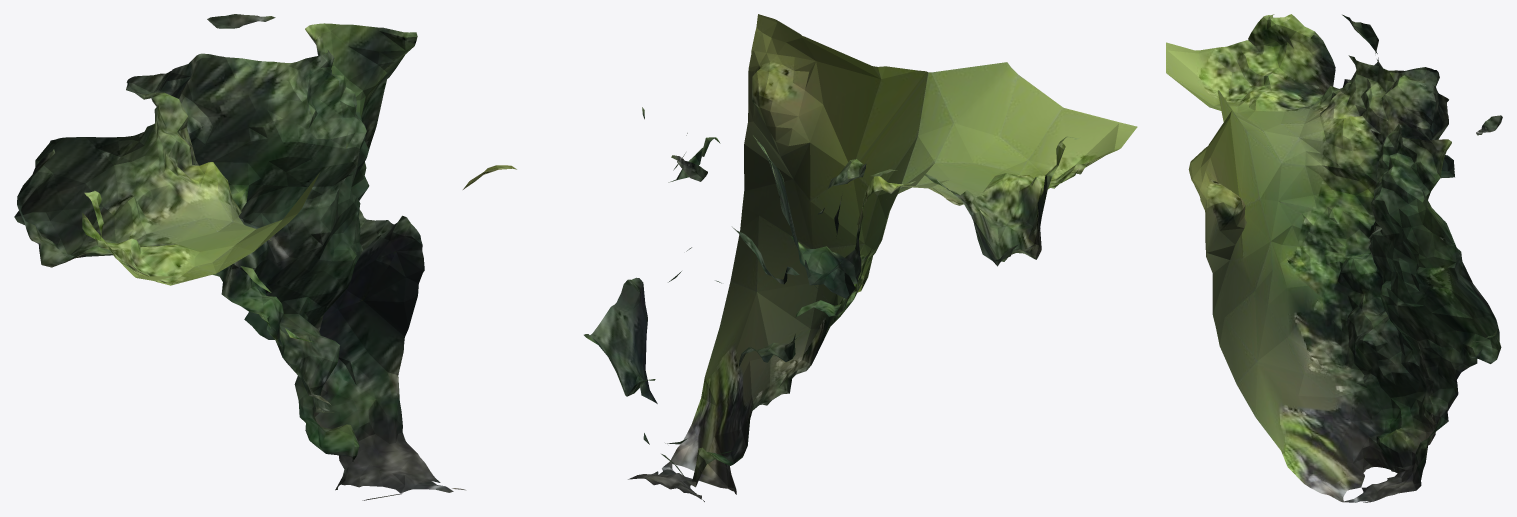
3 views of the same model, side by side, from view 1: azimuth 30°, elevation 25°; view 2: azimuth 150°, elevation 25°; view 3: azimuth 270°, elevation 25° (orthographic). The views are drawn at different scales.
Bounding box in the file's own units: 26.11 × 26.11 × 23.89.
4 materials, 4 textured.
